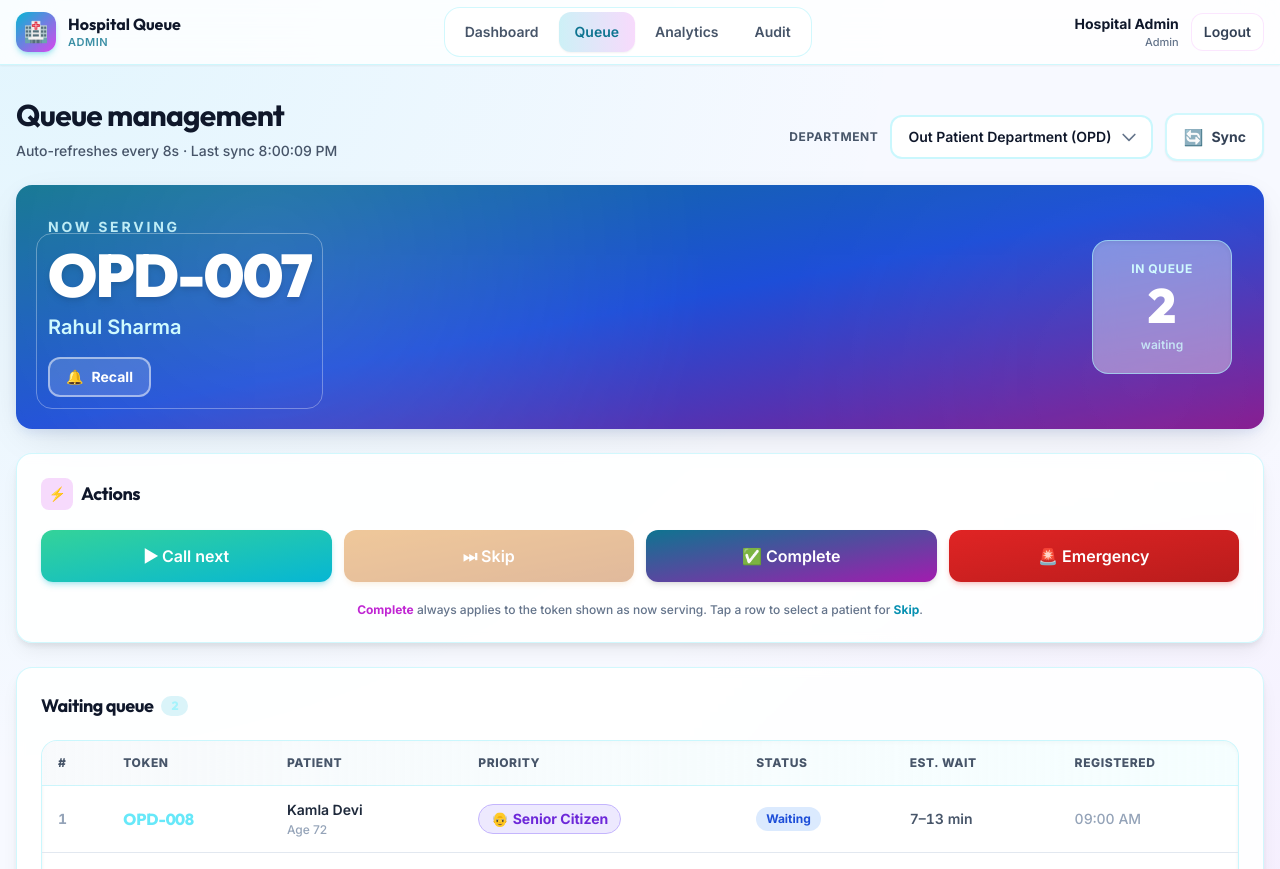
Test case: QueuePage › shows a toast and refetches when the queue has moved on
Expected: the heading "OPD-007" is shown, [48,245,311,305]
Click the button "▶ Call next": [186, 556] box [41,530,332,582]
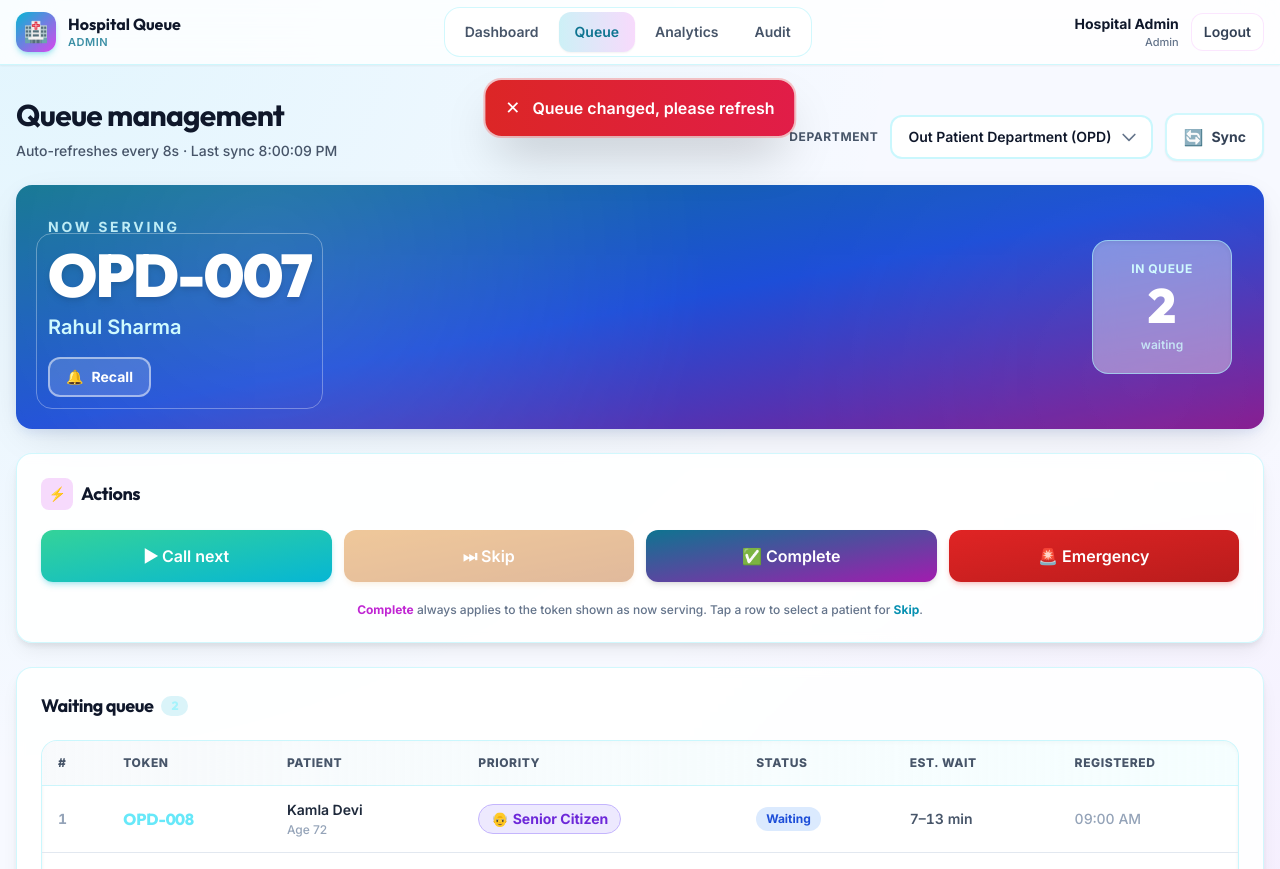
Expected: the text "Queue changed, please refresh" is shown, [532,96,775,120]
